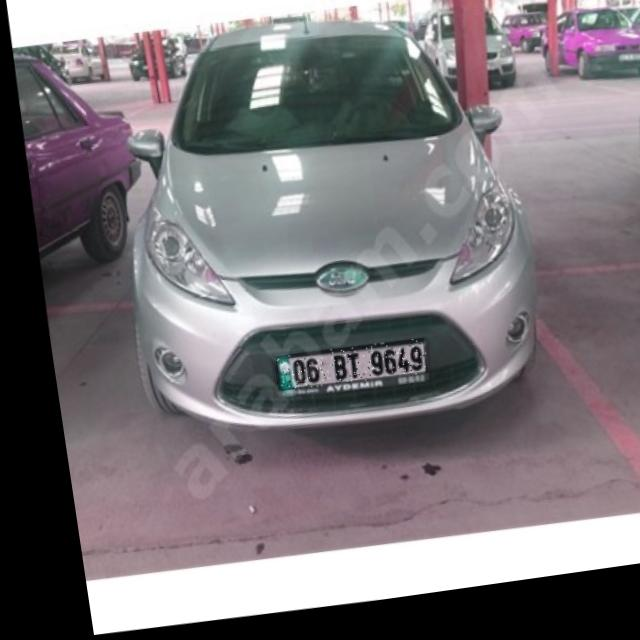license_plate: (260, 345, 416, 400)
